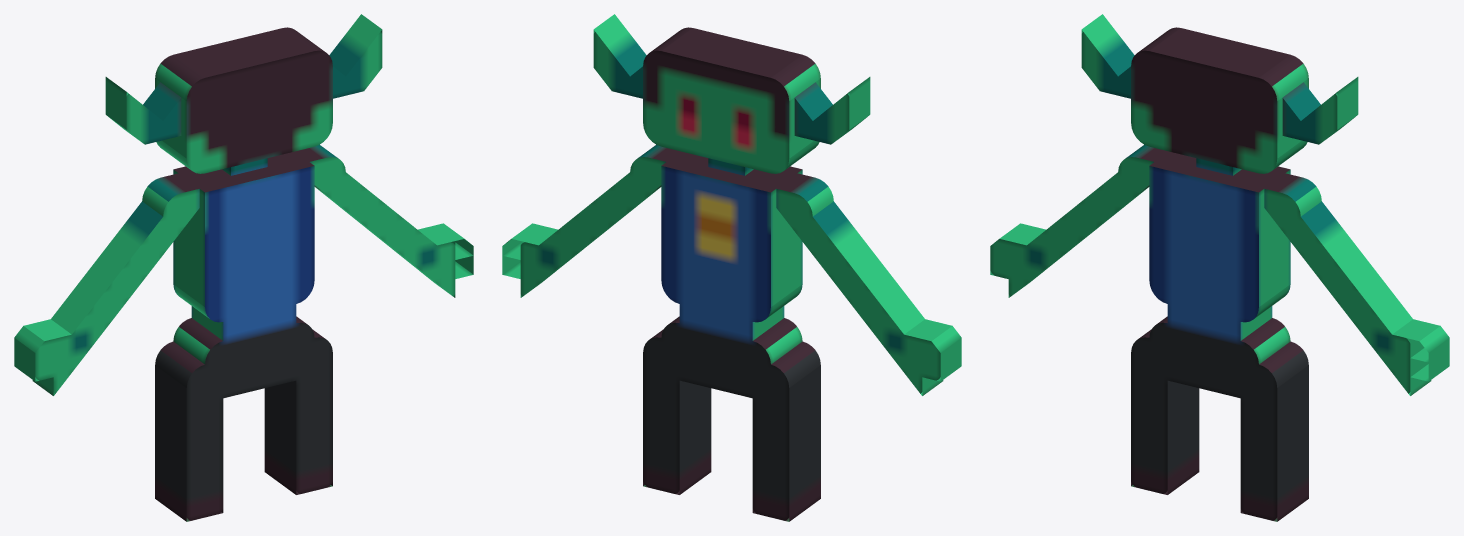
File: Glethan.fbx
The picture shows the model from 3 angles, left to right: view 1: azimuth 30°, elevation 25°; view 2: azimuth 150°, elevation 25°; view 3: azimuth 330°, elevation 25°; orthographic projection.
Visible parts, largest first — view 1: generated; view 2: generated; view 3: generated.
Boxes of the visible parts, x1,y1,x2,y2 form: generated: (14, 14, 473, 521); generated: (502, 14, 961, 521); generated: (990, 14, 1449, 521).
Size of the model in its own units: 120 by 115 by 15.
